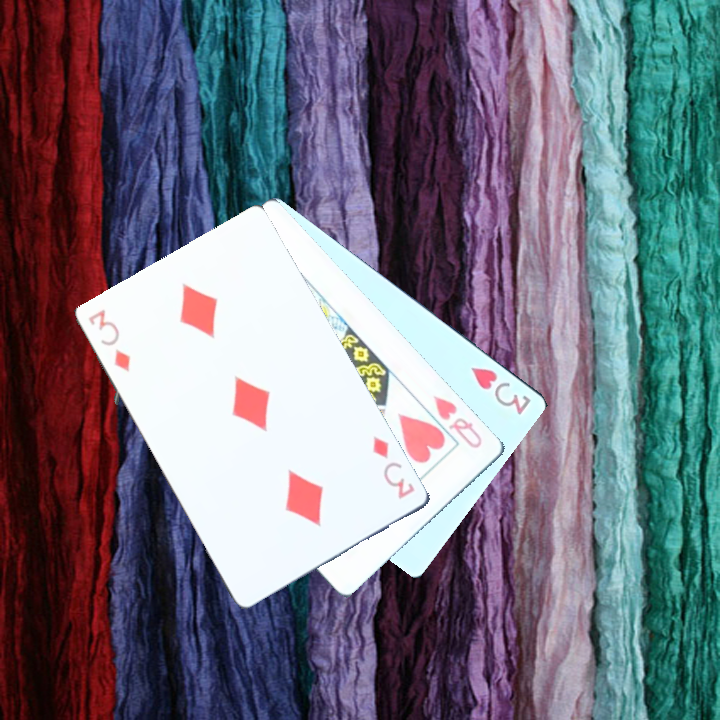3d: (83, 304, 134, 375), (368, 431, 417, 502)
3h: (466, 362, 534, 418)
Qh: (417, 391, 485, 453)
